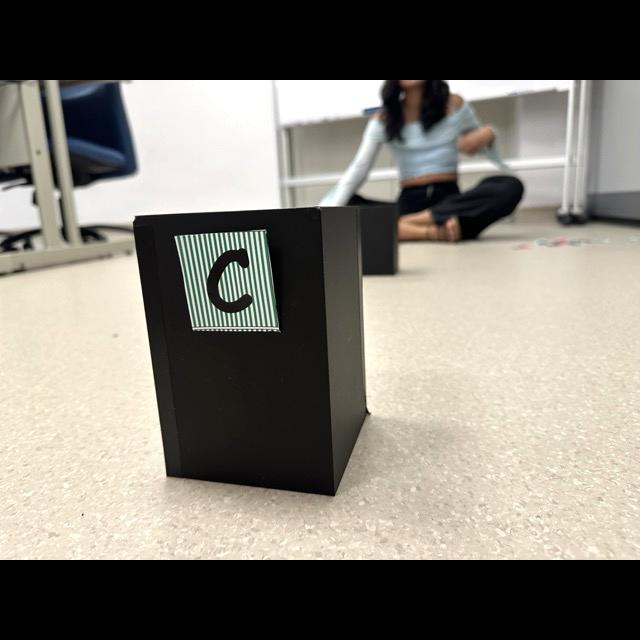C: (207, 248, 253, 313)
